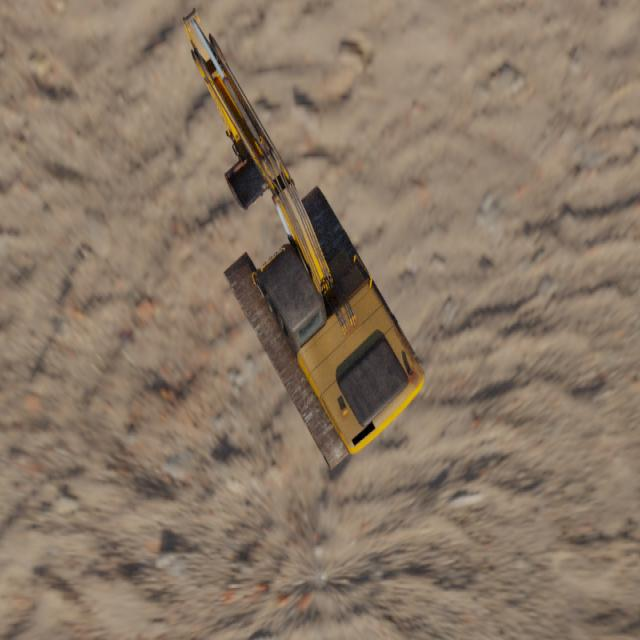excavator: (182, 7, 425, 470)
